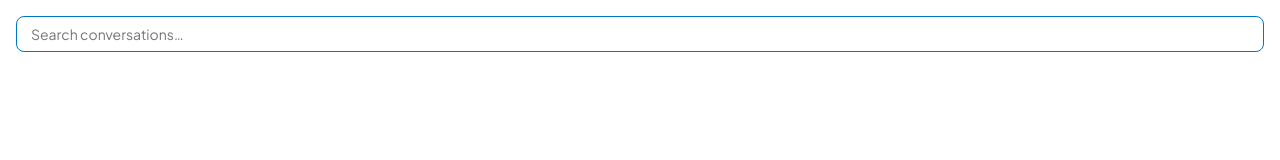
SearchView › aborts an in-flight search when the query changes
In the search field labelled "Search conversations": x=640, y=34 [16,16,1264,52], type "aaa"
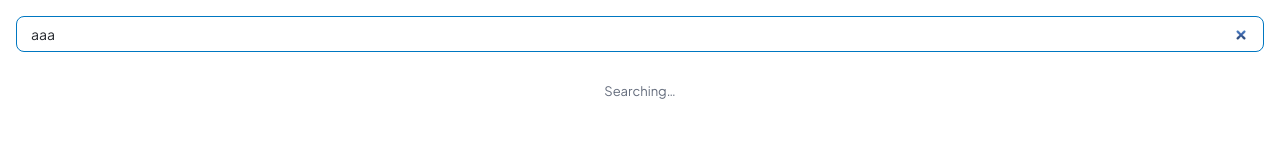
Replace the text in the search field named "Search conversations" with "bbb": x=640, y=34 [16,16,1264,52]
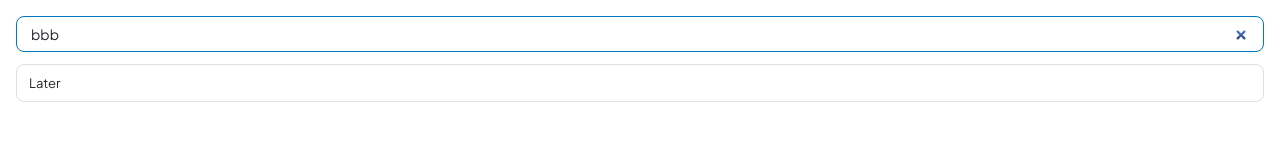
Result: the text "Later" is shown at [29,75,60,91]
